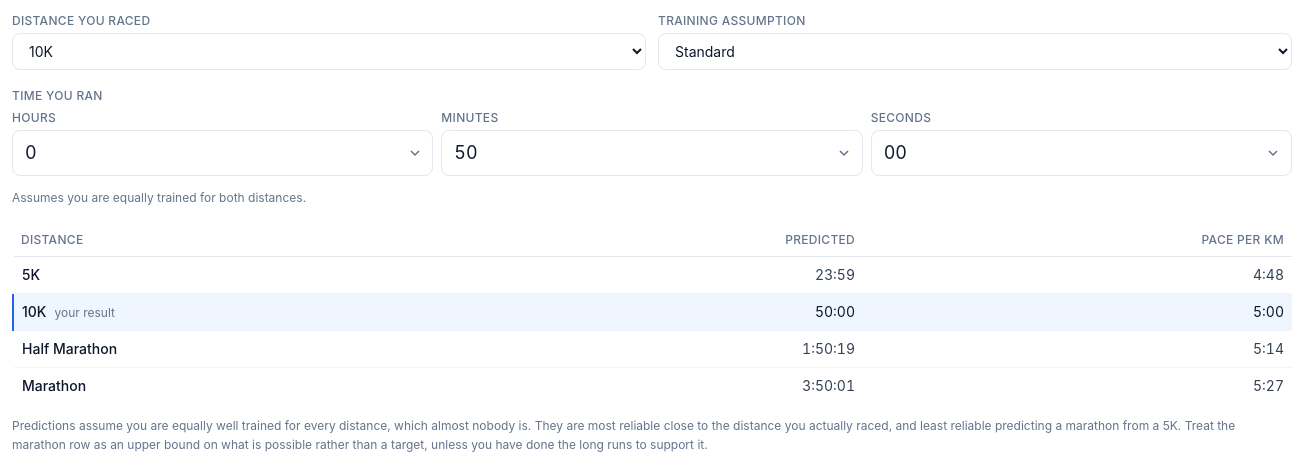
Test: RacePredictor › changing the source distance moves the marker
(page scrolled)
Step 1. Select "5K" in the dropdown labelled "Distance you raced" → [329, 52], box [12,33,646,70]
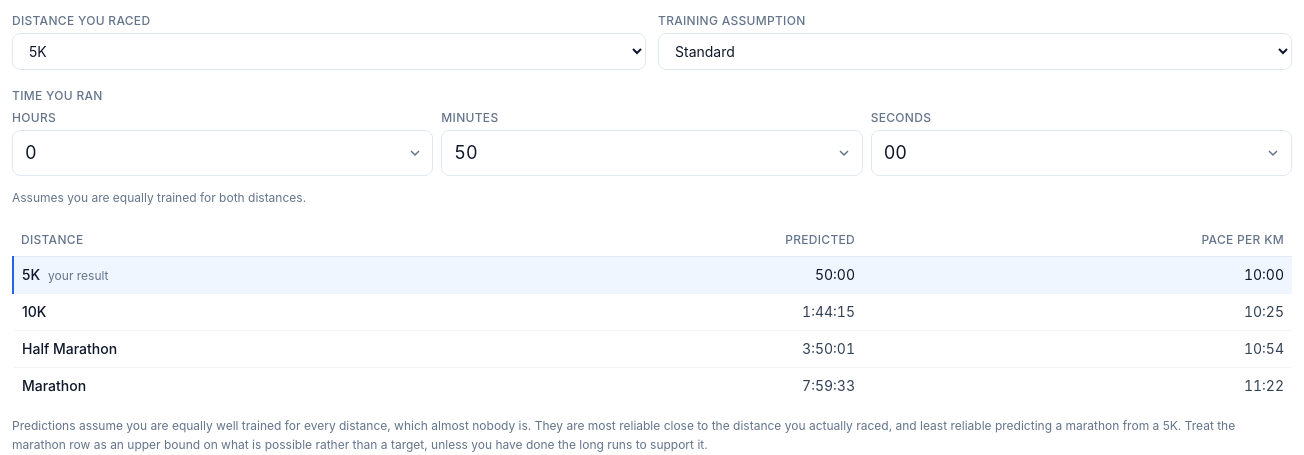
Expected: the 2nd row shows "your result", [48,268,109,282]
Expected: the row no longer shows "your result"
